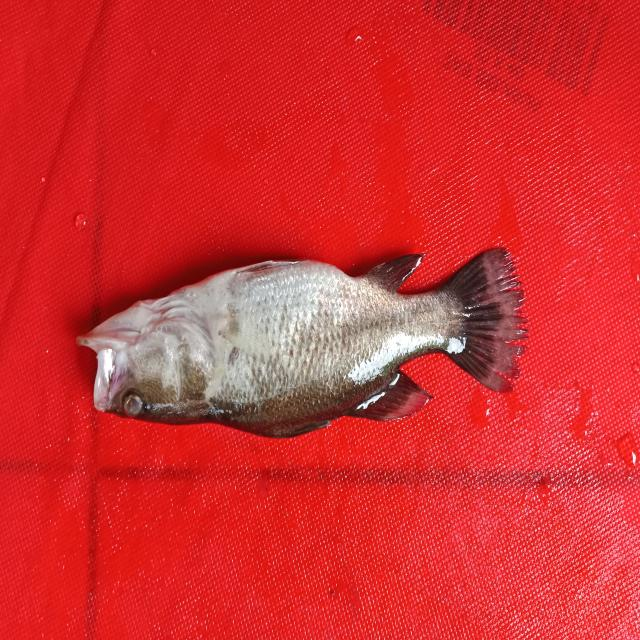ikan: (68, 225, 540, 454)
